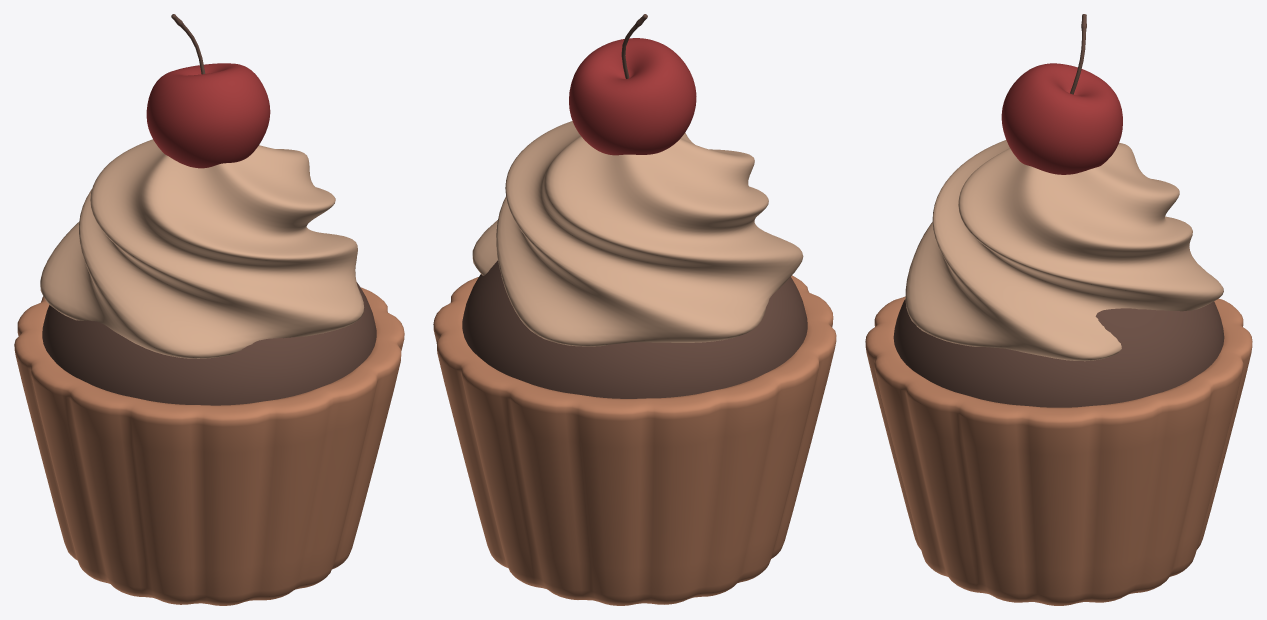
Rendered from cake3.glb.
3 renders of one model, left to right at view 1: azimuth 30°, elevation 25°; view 2: azimuth 150°, elevation 25°; view 3: azimuth 270°, elevation 25°, orthographic. The views are drawn at different scales.
Parts seen in each view (by area): view 1: 0016; view 2: 0016; view 3: 0016.
Part boxes in pixels (x1,y1,x2,y2): 0016: [14, 14, 404, 605]; 0016: [433, 14, 836, 605]; 0016: [865, 14, 1252, 605].
Size of the model in its own units: 1.69 by 2.55 by 1.69.
